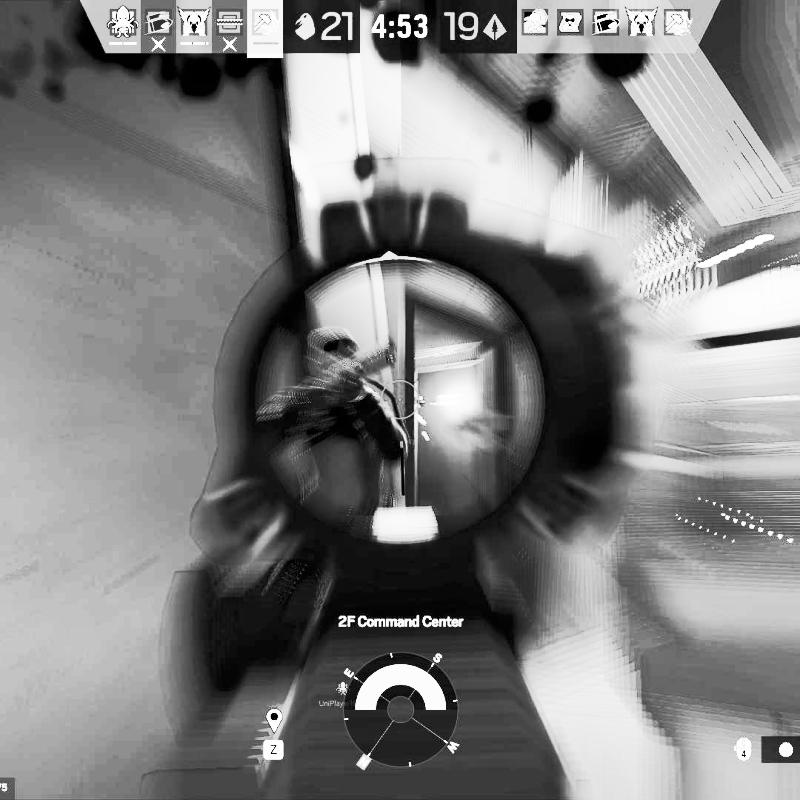Character: (253, 324, 417, 538)
Head: (302, 326, 368, 391)
